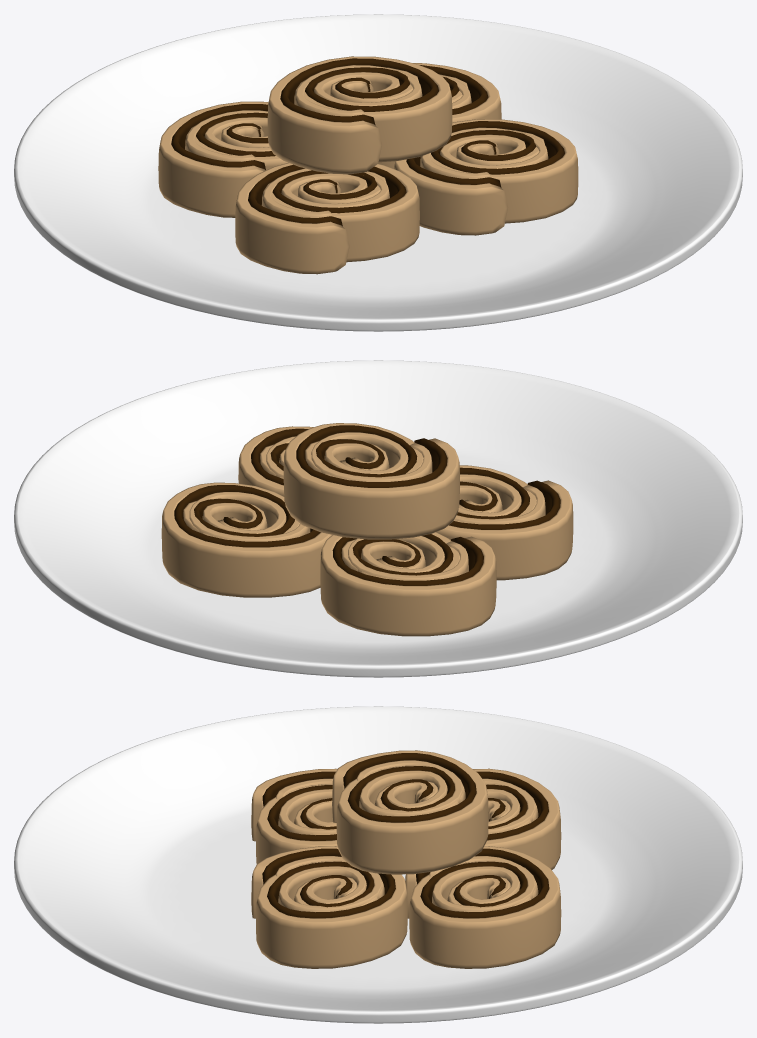
The model's file is CinnamonRoll_238.gltf.
3 renders of one model, top to bottom at view 1: azimuth 30°, elevation 25°; view 2: azimuth 150°, elevation 25°; view 3: azimuth 270°, elevation 25°, orthographic.
Parts seen in each view (by area): view 1: node-0; view 2: node-0; view 3: node-0.
Boxes of the visible parts, box(x1,y1,x2,y2) form: node-0: box(14, 14, 742, 331); node-0: box(14, 360, 742, 677); node-0: box(14, 706, 742, 1023).
Bounding box in the file's own units: 123 × 21.52 × 123.
